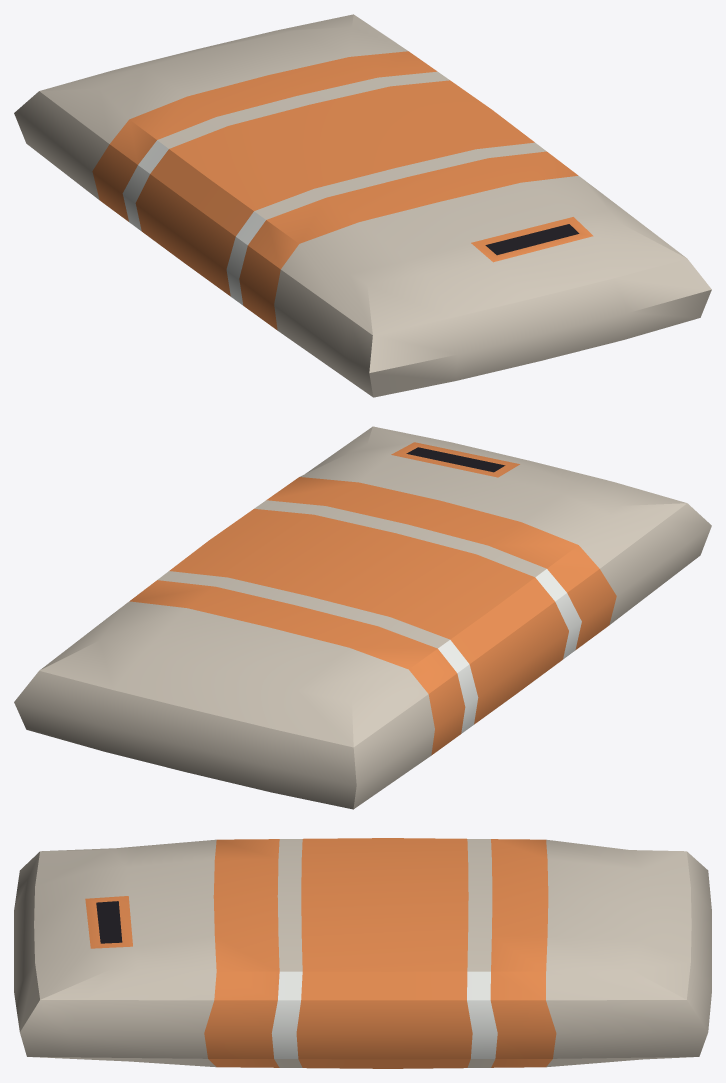
The model's file is SacoCimento.fbx.
The picture shows the model from 3 angles, top to bottom: view 1: azimuth 30°, elevation 25°; view 2: azimuth 150°, elevation 25°; view 3: azimuth 270°, elevation 25°; orthographic projection. The views are drawn at different scales.
Visible parts, largest first — view 1: Cube.007; view 2: Cube.007; view 3: Cube.007.
Boxes of the visible parts, left/top/right/bottom form: Cube.007: left=14, top=14, right=711, bottom=397; Cube.007: left=14, top=426, right=711, bottom=809; Cube.007: left=14, top=838, right=711, bottom=1068.
Bounding box in the file's own units: 1.01 × 0.3385 × 1.84.
